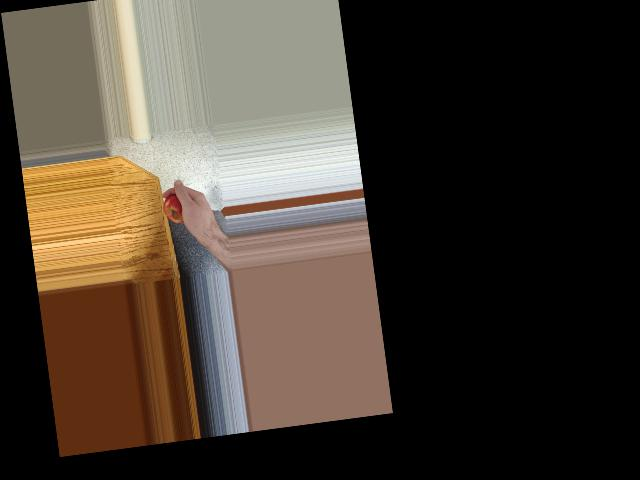apple: (159, 190, 199, 229)
